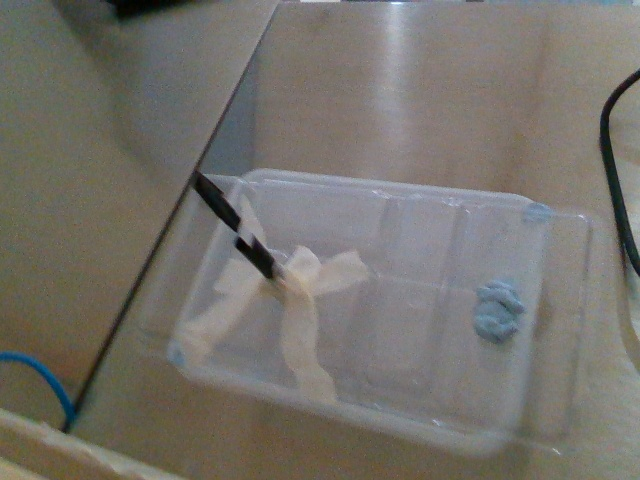test_strip: (188, 167, 253, 247)
